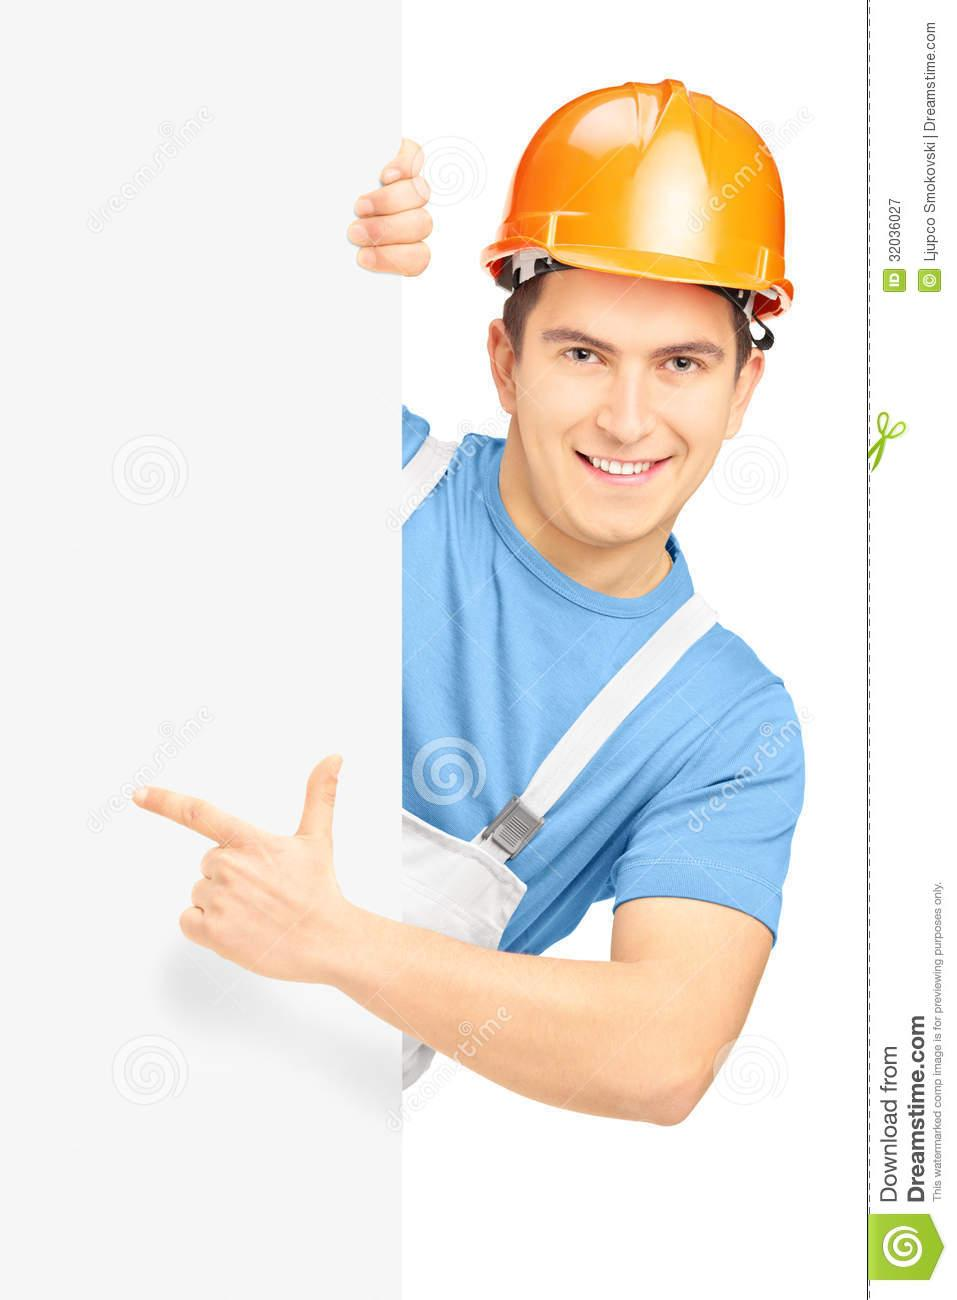helmet: (485, 77, 805, 321)
